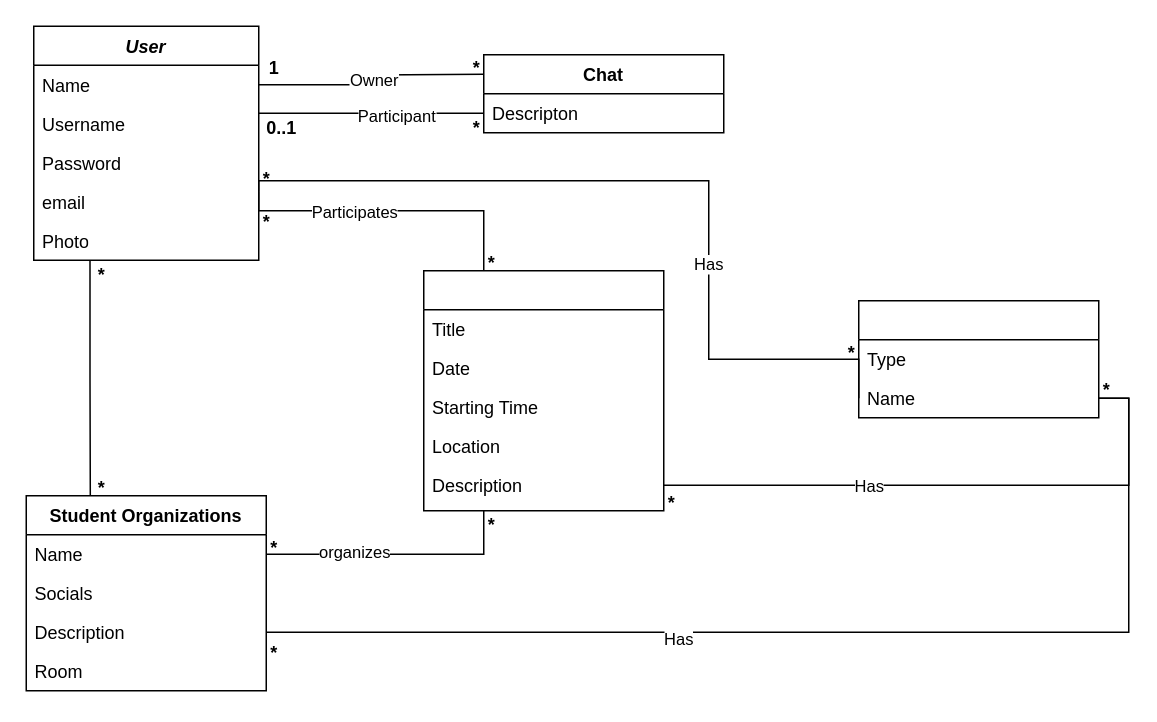
The diagram is 1157 pixels wide and 722 high, and some of its shapes have lost their labels. The shapes that lost their labels are listed below. From the top down, each one's box as (x1, y1, x2, y2) in pixels, then its label:
(857, 299, 1099, 418): Tags
(422, 269, 664, 511): Events
